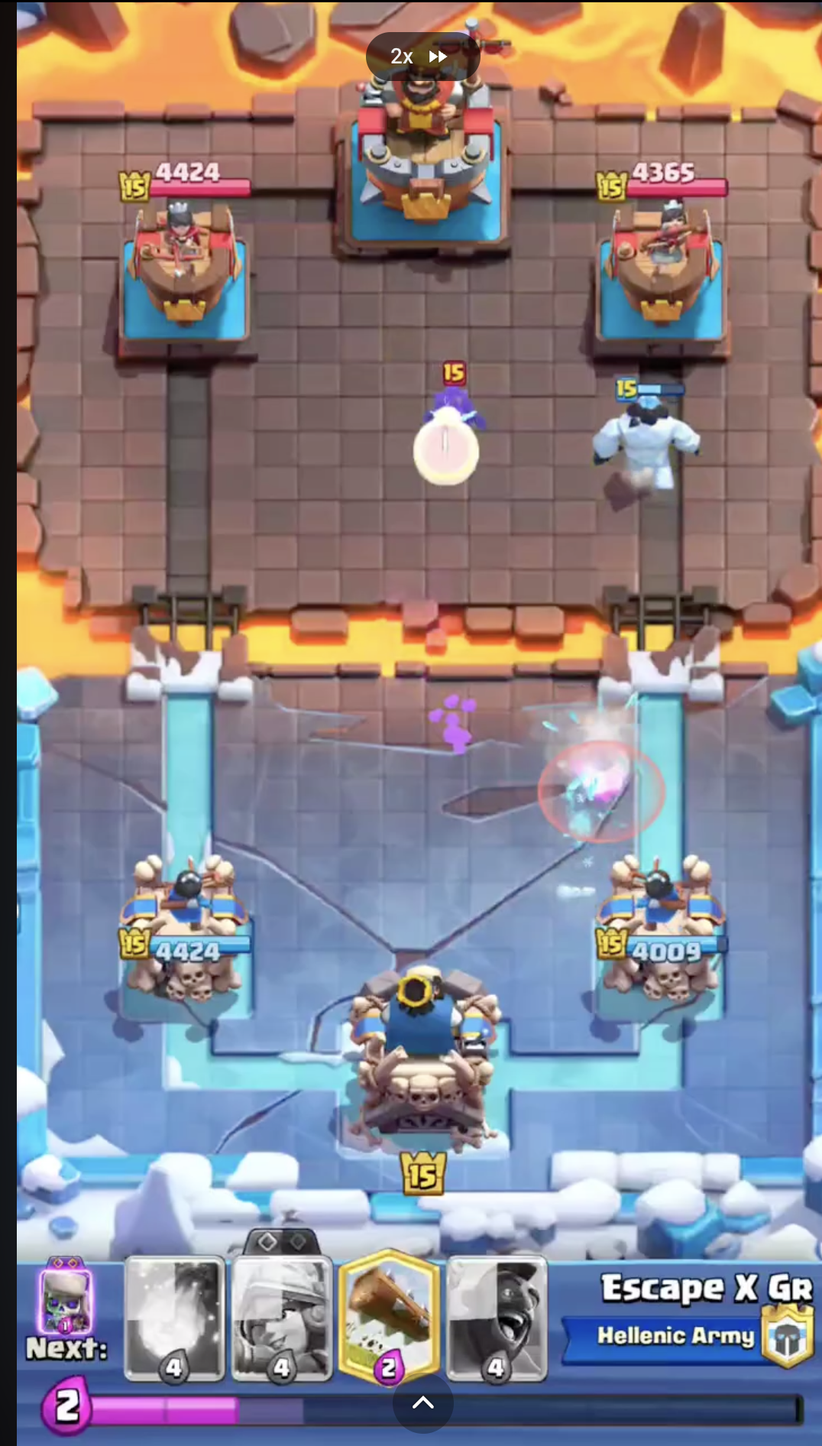electro-spirit: (426, 355, 494, 441)
